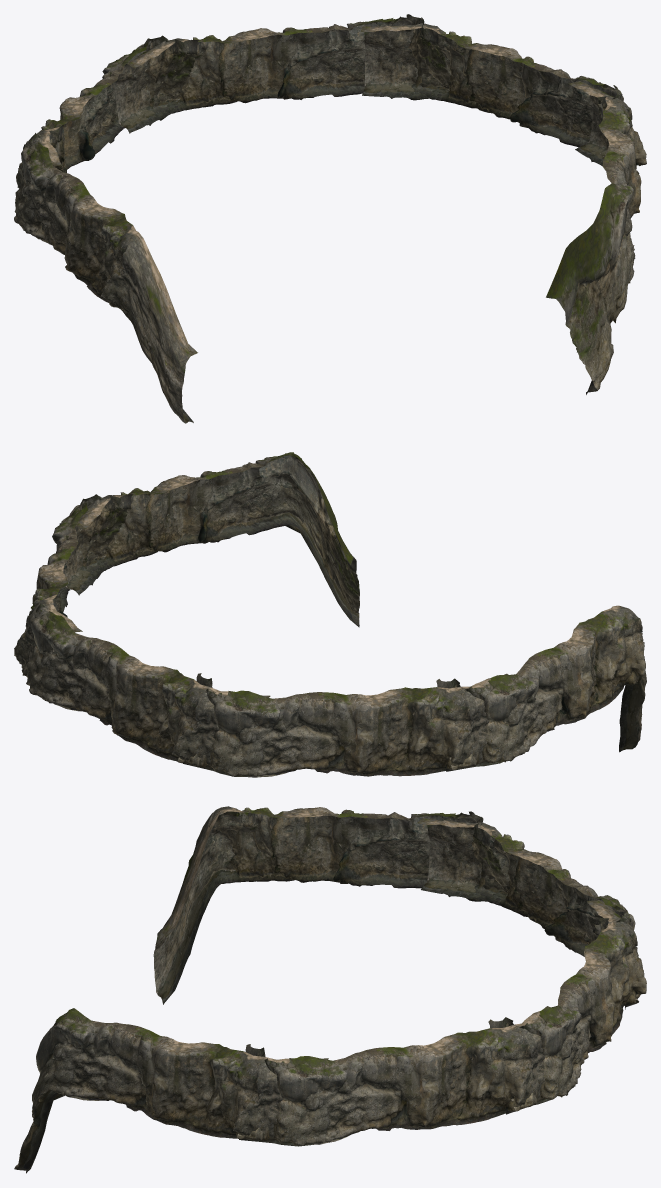
Rendered from cliff_ring.obj.
3 renders of one model, top to bottom at view 1: azimuth 30°, elevation 25°; view 2: azimuth 150°, elevation 25°; view 3: azimuth 270°, elevation 25°, orthographic. The views are drawn at different scales.
Parts seen in each view (by area): view 1: cliff_ring; view 2: cliff_ring; view 3: cliff_ring.
Boxes of the visible parts, box(x1,y1,x2,y2) form: cliff_ring: box(14, 14, 646, 423); cliff_ring: box(14, 452, 646, 777); cliff_ring: box(14, 806, 646, 1173).
Bounding box in the file's own units: 45.28 × 14.35 × 43.25.
Materials: 1 (1 with a texture image).
